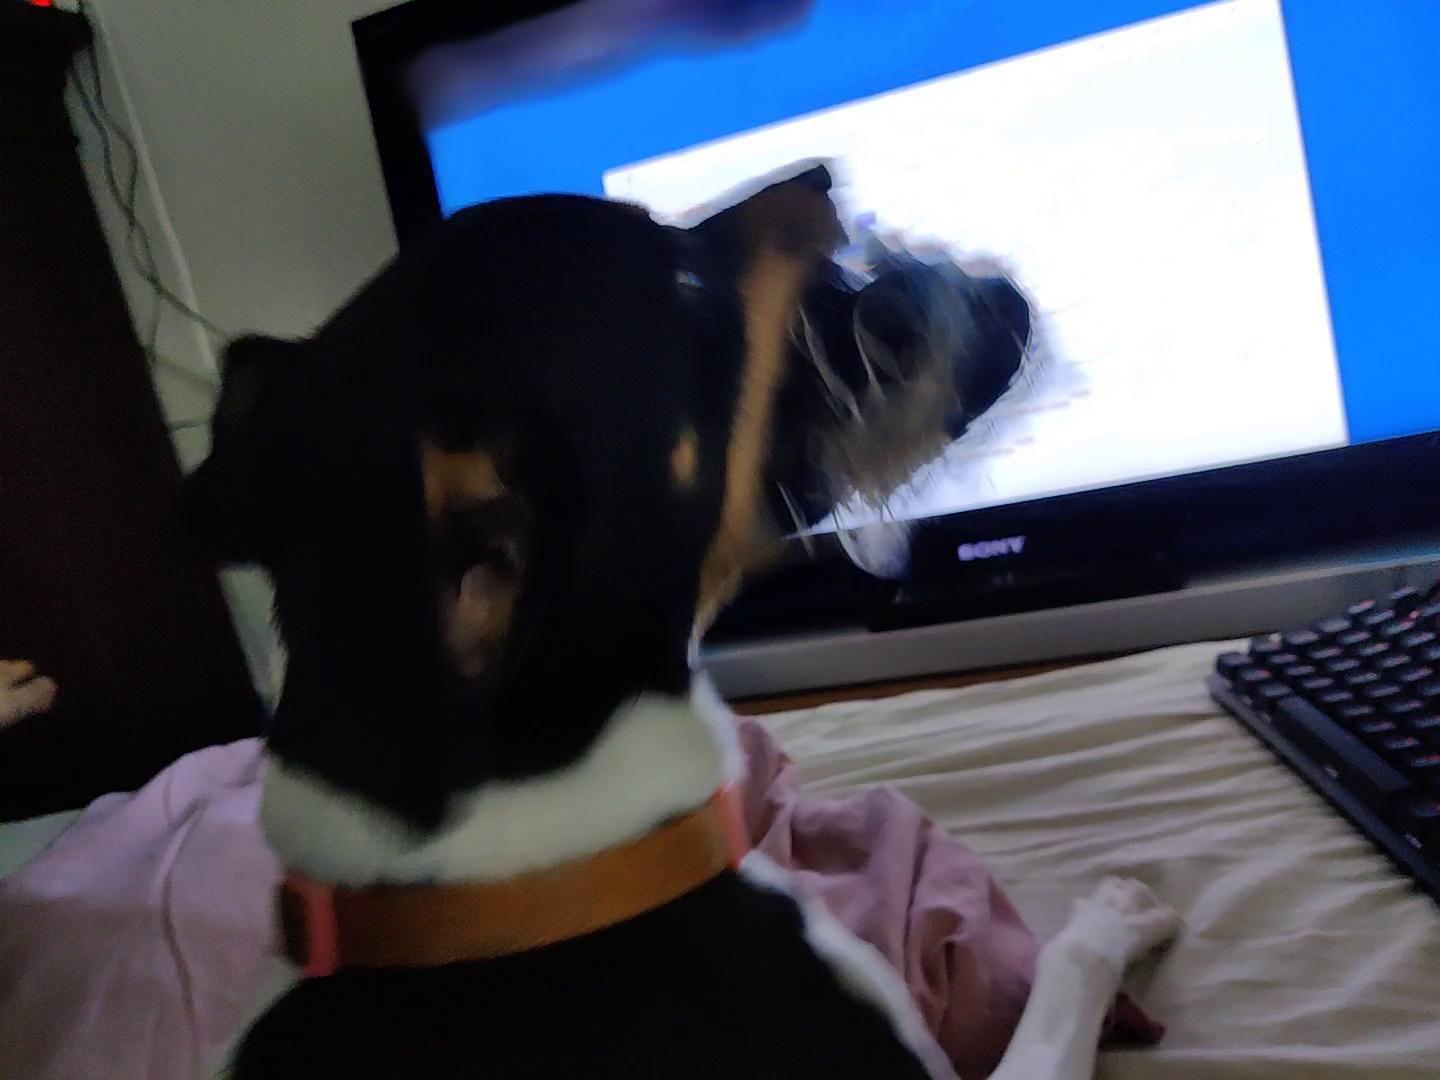Dog: (130, 146, 1185, 1079)
